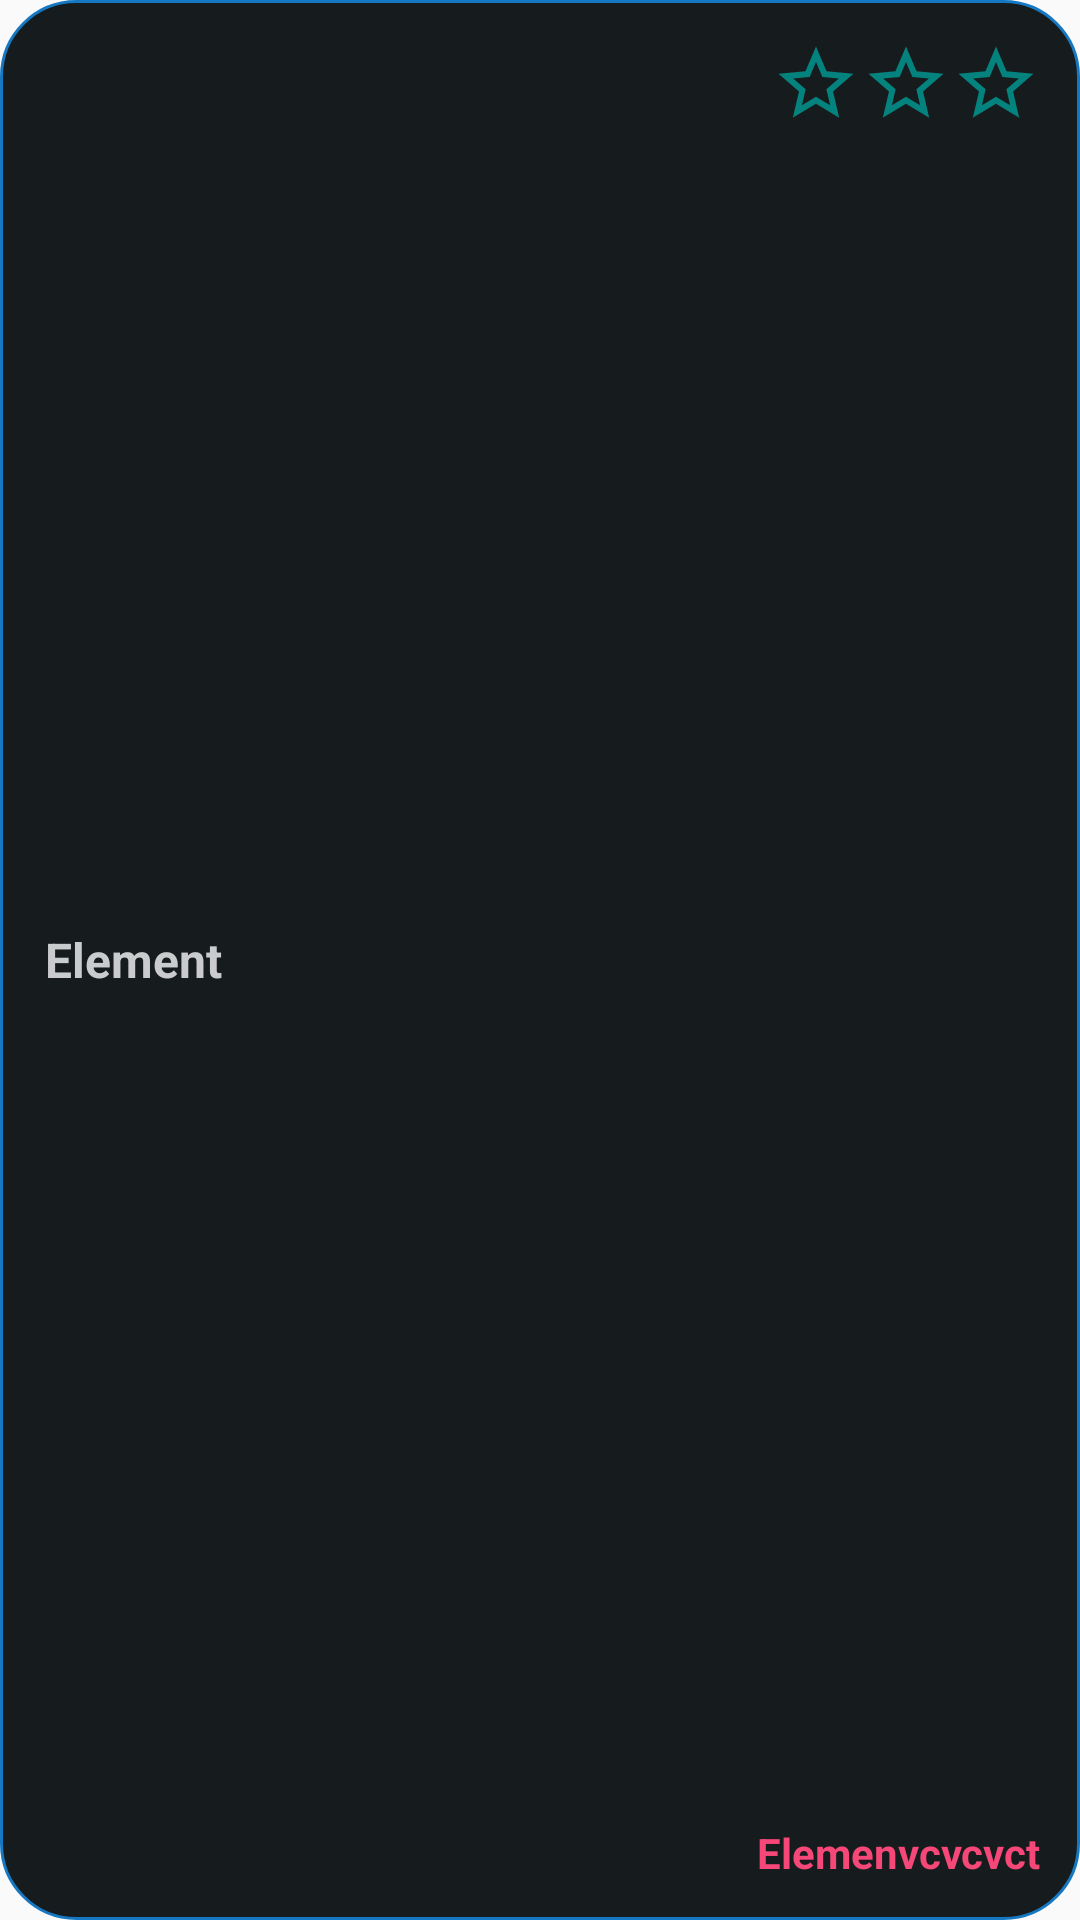

Point at icon controls on the screen. Image size 1080 × 1920, points as (x,y).
star empty: (816,82), (906,82), (996,82)
